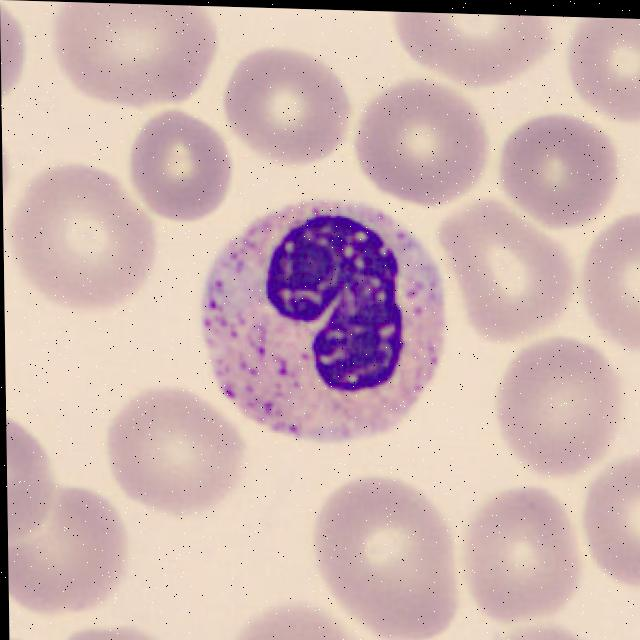neutrophil: (196, 193, 444, 454)
rbc: (2, 143, 157, 323), (299, 477, 457, 640), (94, 378, 255, 535), (489, 331, 625, 487), (49, 1, 222, 118), (493, 103, 625, 247), (439, 203, 568, 350), (7, 473, 131, 620), (352, 87, 496, 211), (459, 478, 579, 626), (389, 12, 558, 108), (221, 51, 352, 169), (122, 95, 235, 222), (576, 211, 640, 367), (565, 17, 640, 137), (579, 455, 640, 600), (6, 414, 59, 553), (226, 594, 360, 640), (0, 0, 33, 113)
